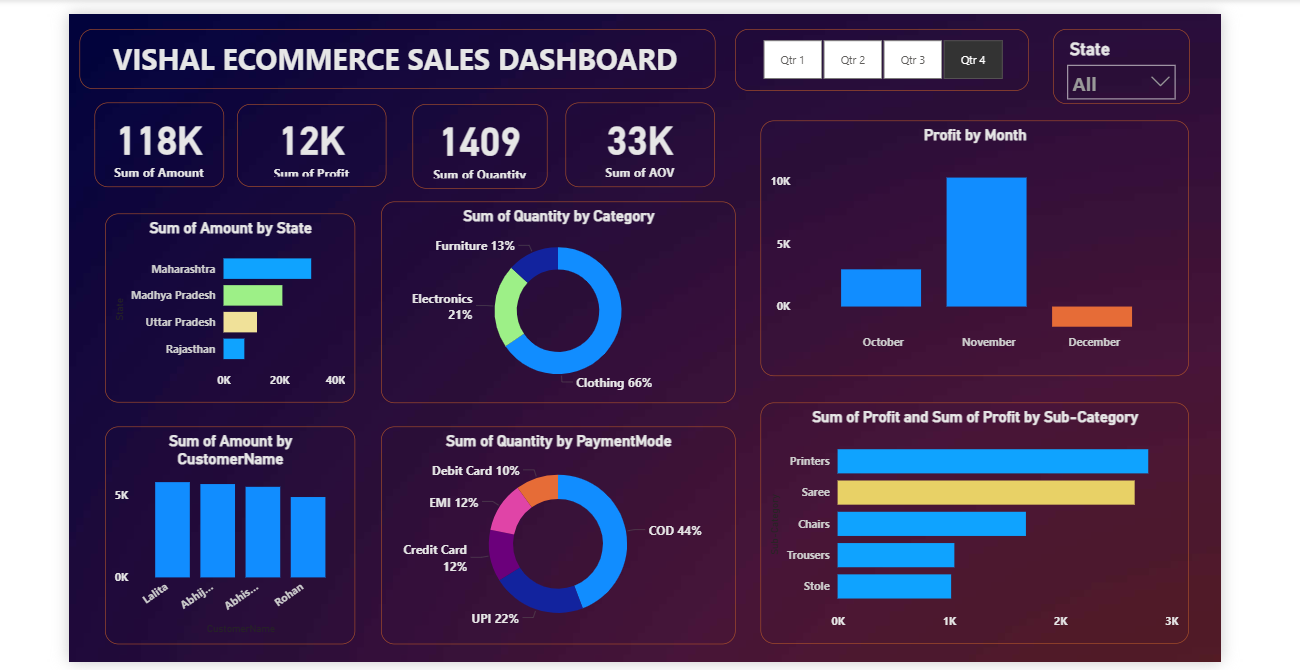

This screenshot's page, from the dashboard's own definition file:
{"tool":"powerbi","page":{"name":"Page 1","canvas":[1280,720],"ordinal":0},"visuals":[{"type":"columnChart","title":"Profit by Month","fields":{"Category":["Orders.Order Date.Variation.Date Hierarchy.Month"],"Y":["Details.Profit"]},"box":[768,118,476,284],"z":0},{"type":"barChart","fields":{"Category":["Details.Sub-Category"],"Y":["Details.Profit","Details.Profit"]},"box":[768,432,476,268],"z":1000},{"type":"donutChart","fields":{"Category":["Details.PaymentMode"],"Y":["Details.Quantity"]},"box":[346,458,394,242],"z":2000},{"type":"donutChart","fields":{"Category":["Details.Category"],"Y":["Details.Quantity"]},"box":[346,208,394,224],"z":3000},{"type":"card","fields":{"Values":["Details.Amount"]},"box":[28,98,144,94],"z":4000},{"type":"card","fields":{"Values":["Details.Quantity"]},"box":[382,100,150,94],"z":5000},{"type":"card","fields":{"Values":["Details.Profit"]},"box":[186,100,166,92],"z":6000},{"type":"card","fields":{"Values":["Details.AOV"]},"box":[552,98,166,94],"z":7000},{"type":"barChart","fields":{"Category":["Orders.State"],"Y":["Details.Amount"]},"box":[40,222,278,210],"z":8000},{"type":"columnChart","fields":{"Category":["Orders.CustomerName"],"Y":["Details.Amount"]},"box":[40,458,278,242],"z":9000},{"type":"textbox","box":[11.7,16.7,706.7,66.7],"z":10000},{"type":"slicer","fields":{"Values":["Orders.Order Date.Variation.Date Hierarchy.Quarter"]},"box":[740,16.7,326.7,68.3],"z":11000},{"type":"slicer","fields":{"Values":["Orders.State"]},"box":[1093.3,16.7,151.7,83.3],"z":12000}]}

Visuals, with their boxes in screenshot pixels (x1, y1, x2, y2):
"Profit by Month" columnChart: box(761, 106, 1215, 376)
barChart - Details.Sub-Category x Details.Profit: box(761, 404, 1215, 660)
donutChart - Details.PaymentMode x Details.Quantity: box(360, 429, 735, 660)
donutChart - Details.Category x Details.Quantity: box(360, 191, 735, 404)
card - Details.Amount: box(57, 87, 194, 176)
card - Details.Quantity: box(394, 88, 537, 178)
card - Details.Profit: box(208, 88, 366, 176)
card - Details.AOV: box(556, 87, 714, 176)
barChart - Orders.State x Details.Amount: box(69, 205, 333, 404)
columnChart - Orders.CustomerName x Details.Amount: box(69, 429, 333, 660)
textbox: box(42, 9, 714, 73)
slicer - Orders.Order Date.Variation.Date Hierarchy.Quarter: box(735, 9, 1046, 74)
slicer - Orders.State: box(1071, 9, 1216, 88)
